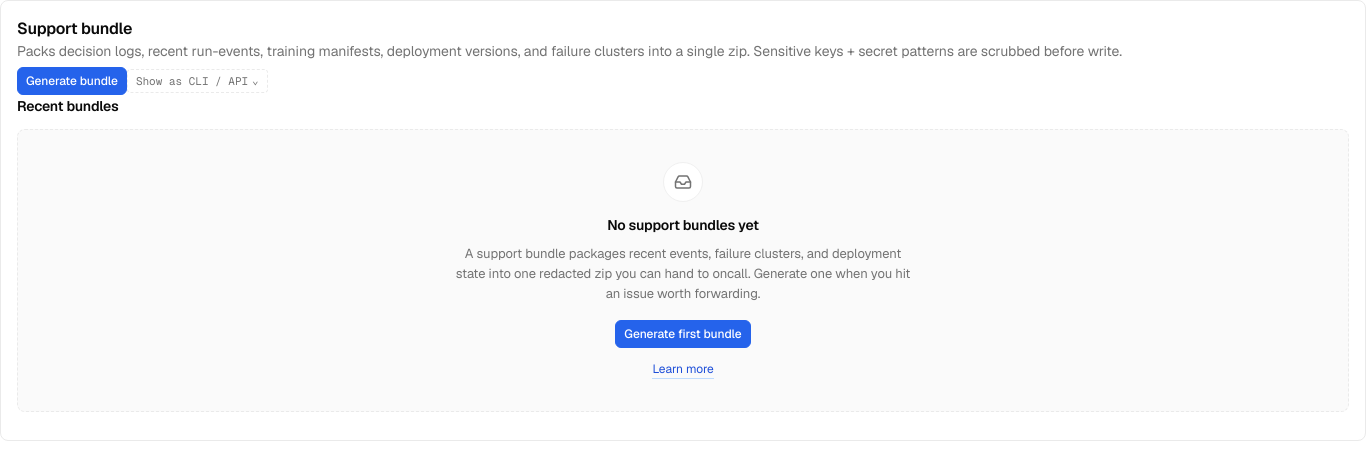
Test: SupportBundleCard › Generate bundle POSTs and renders the preview with redactions
This screenshot has width=1366, height=458.
Expected: the heading "No support bundles yet" is shown, [607,214,759,236]
Click the button "Generate bundle": (72, 81) [17,67,127,95]
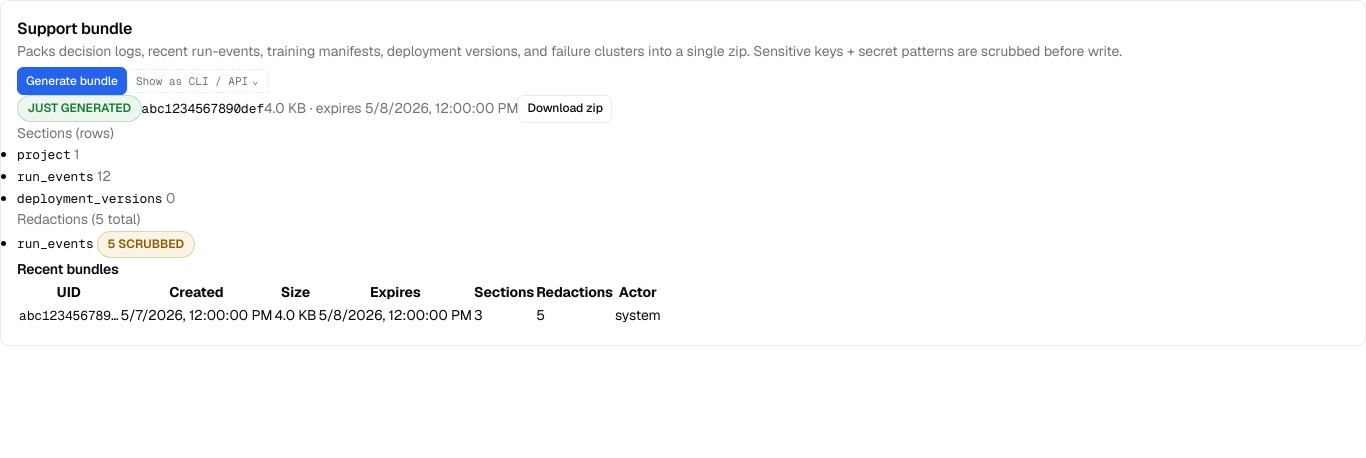
Result: the text "abc1234567890def" is shown at [142,99,264,116]
Result: the text "Redactions (5 total)" is shown at [17,210,140,228]
Result: the text "5 scrubbed" is shown at [97,231,195,258]
